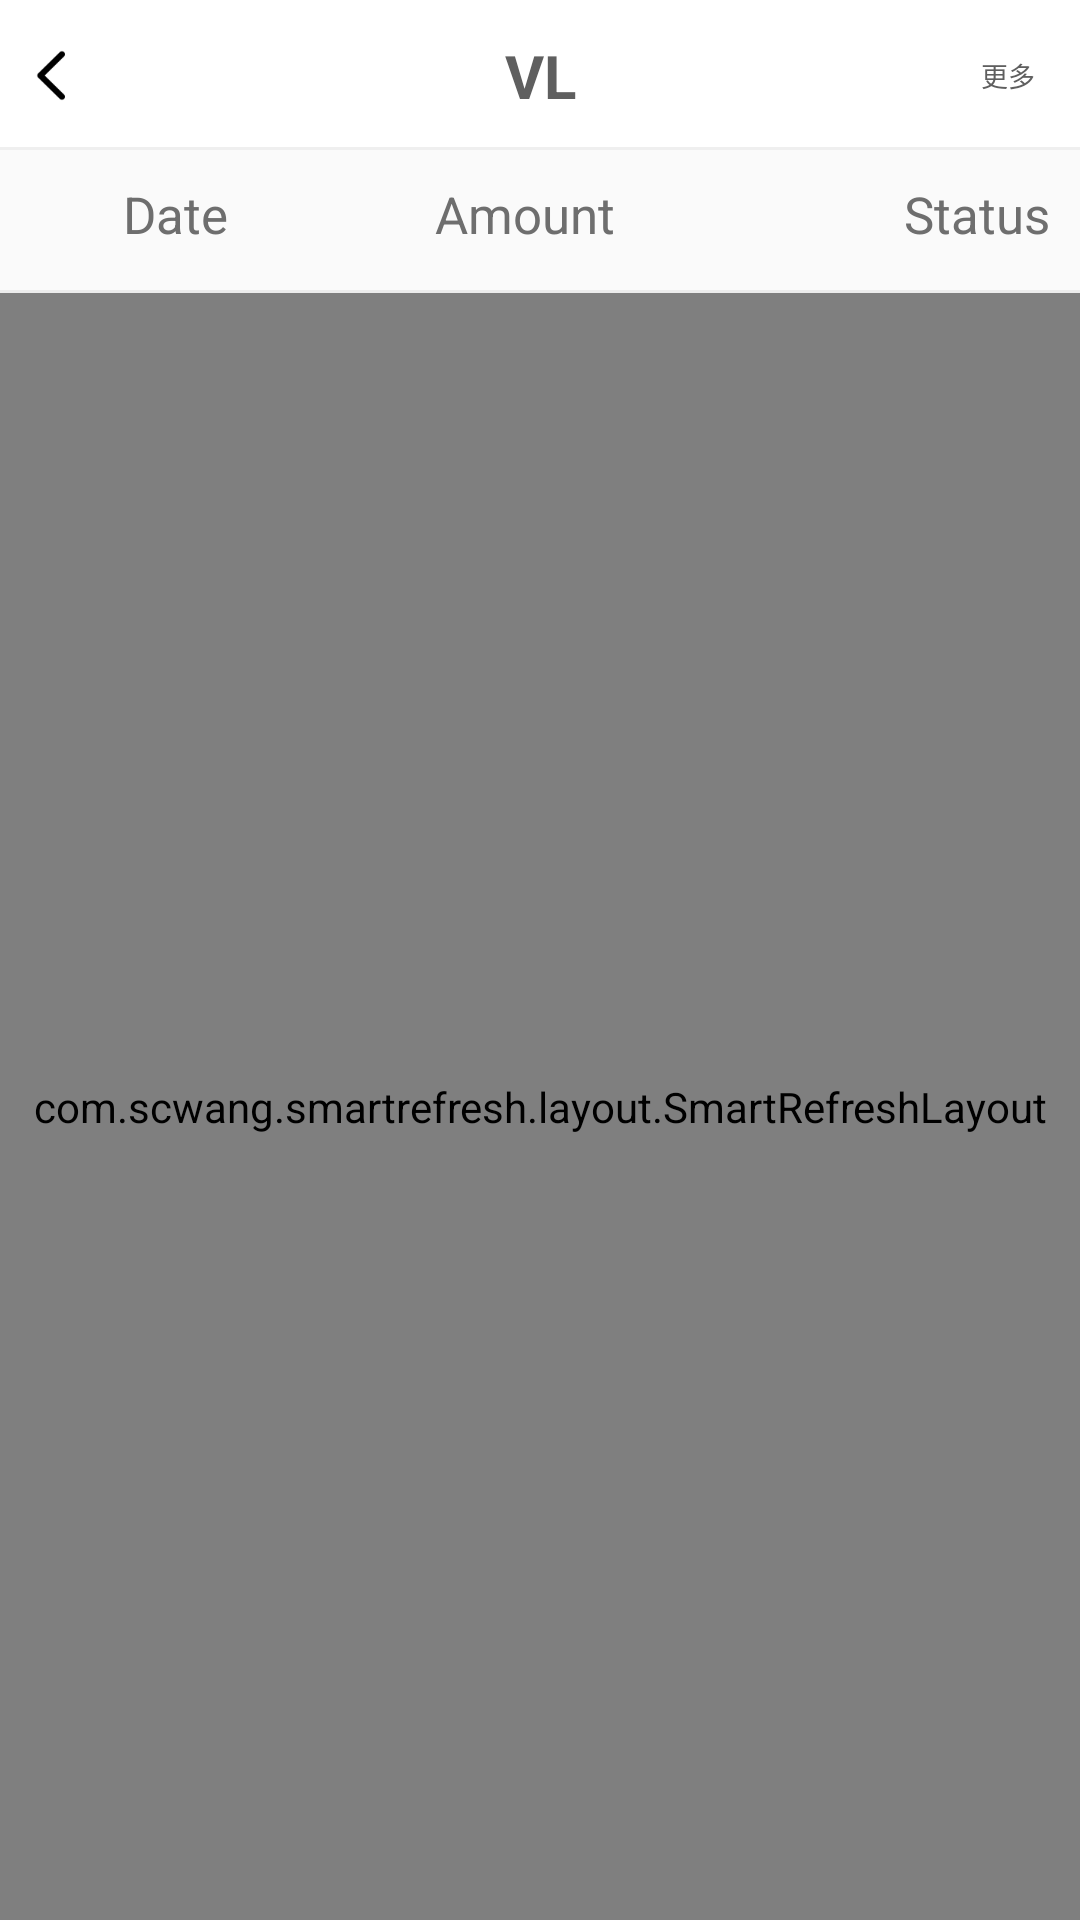

Icons on this 1080 x 1920 Android screen, each with its box as Rect(x1, y1, x2, y2):
back: Rect(37, 51, 65, 100)
